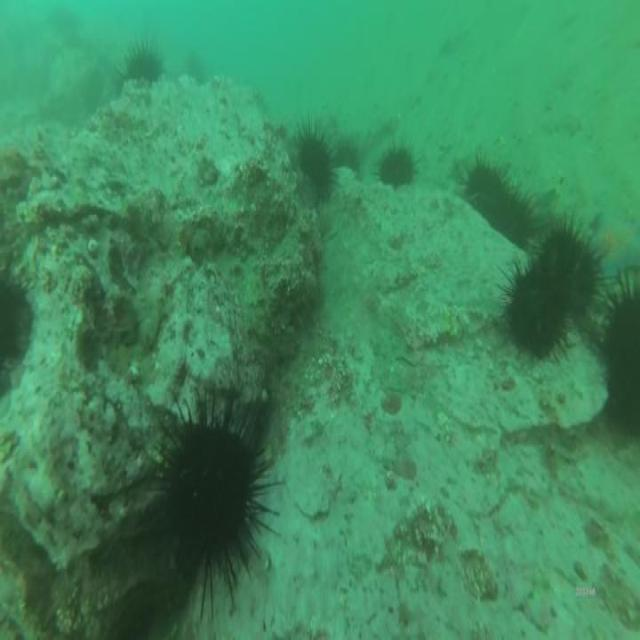echinus: (156, 409, 262, 583), (466, 162, 532, 244), (542, 229, 596, 327), (605, 289, 640, 435), (508, 267, 564, 354), (296, 131, 334, 199), (379, 146, 414, 190), (123, 48, 161, 80), (341, 134, 360, 168)
starfish: (585, 207, 640, 281)
